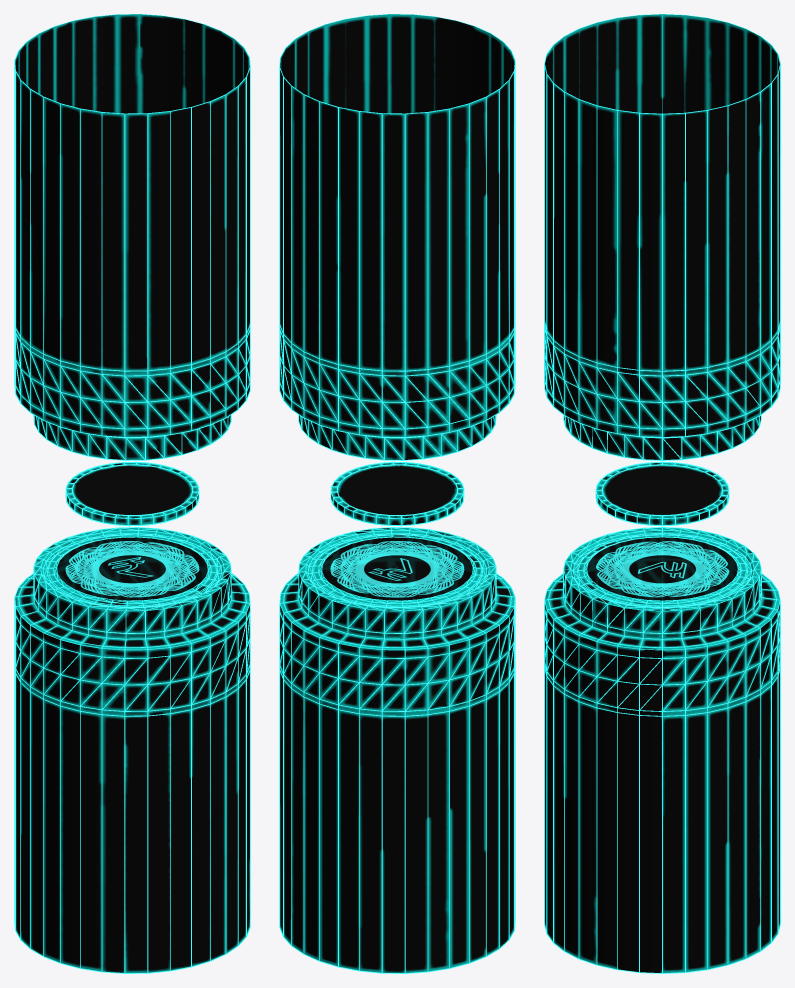
The model's file is Coin_minting.glb.
3 renders of one model, left to right at view 1: azimuth 30°, elevation 25°; view 2: azimuth 150°, elevation 25°; view 3: azimuth 270°, elevation 25°, orthographic.
Visible parts, largest first — view 1: CM_Top, CM_Bottom, Coin; view 2: CM_Top, CM_Bottom, Coin; view 3: CM_Top, CM_Bottom, Coin.
Boxes of the visible parts, x1=… form: CM_Top: x1=14, y1=14, x2=250, y2=460; CM_Bottom: x1=14, y1=527, x2=250, y2=973; Coin: x1=65, y1=461, x2=199, y2=526; CM_Top: x1=279, y1=14, x2=515, y2=460; CM_Bottom: x1=279, y1=527, x2=515, y2=973; Coin: x1=330, y1=461, x2=464, y2=526; CM_Top: x1=544, y1=14, x2=780, y2=460; CM_Bottom: x1=544, y1=527, x2=780, y2=973; Coin: x1=595, y1=461, x2=729, y2=526.
Size of the model in its own units: 2.01 by 8.07 by 2.01.
Materials: 3 (2 with a texture image).
